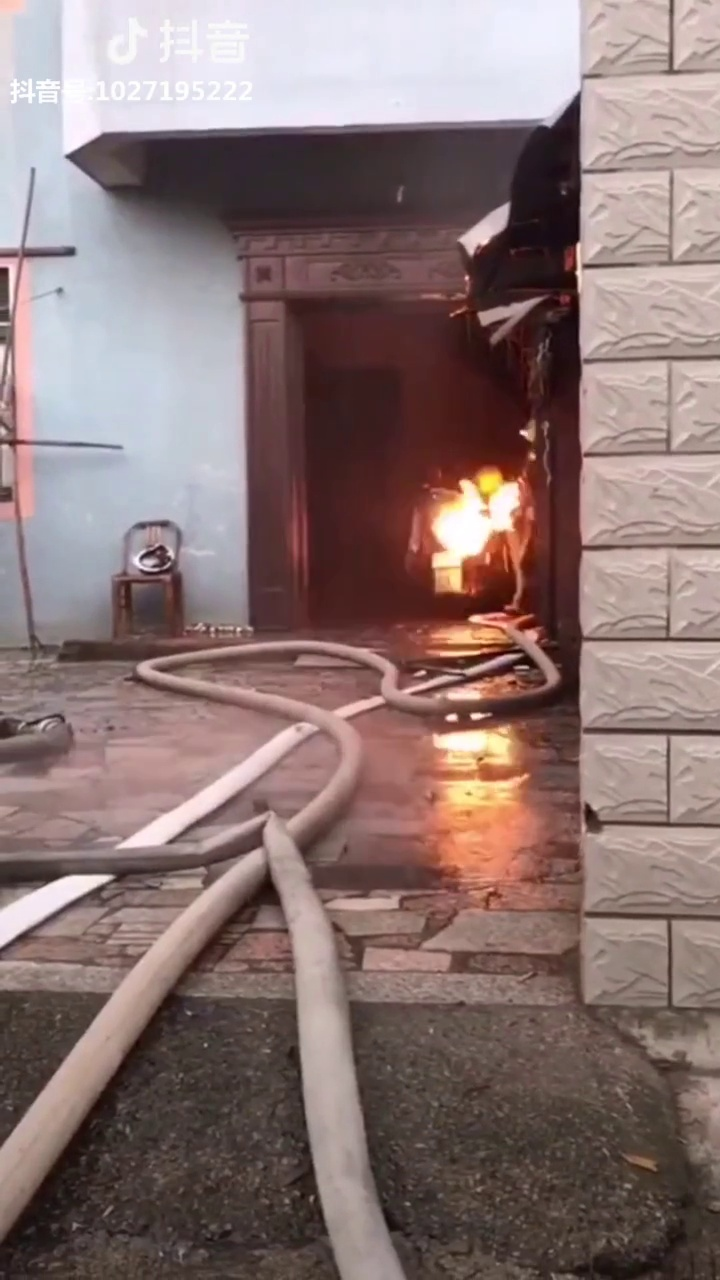fire: (427, 481, 502, 557)
